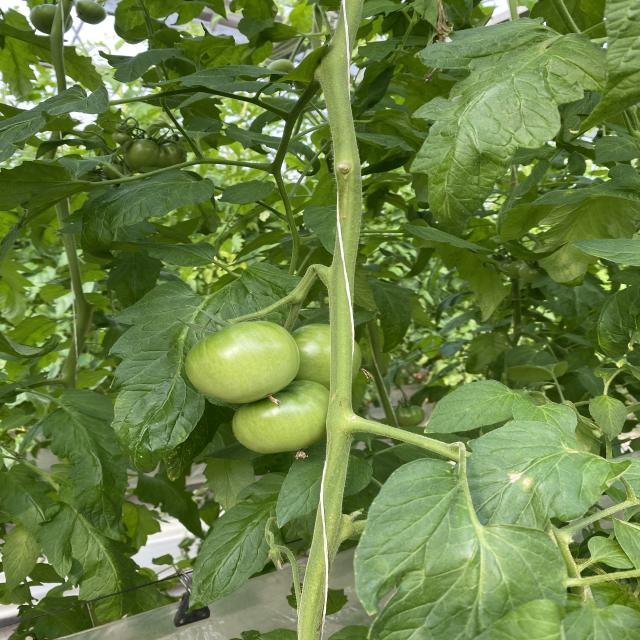yesil: (150, 284, 402, 465)
